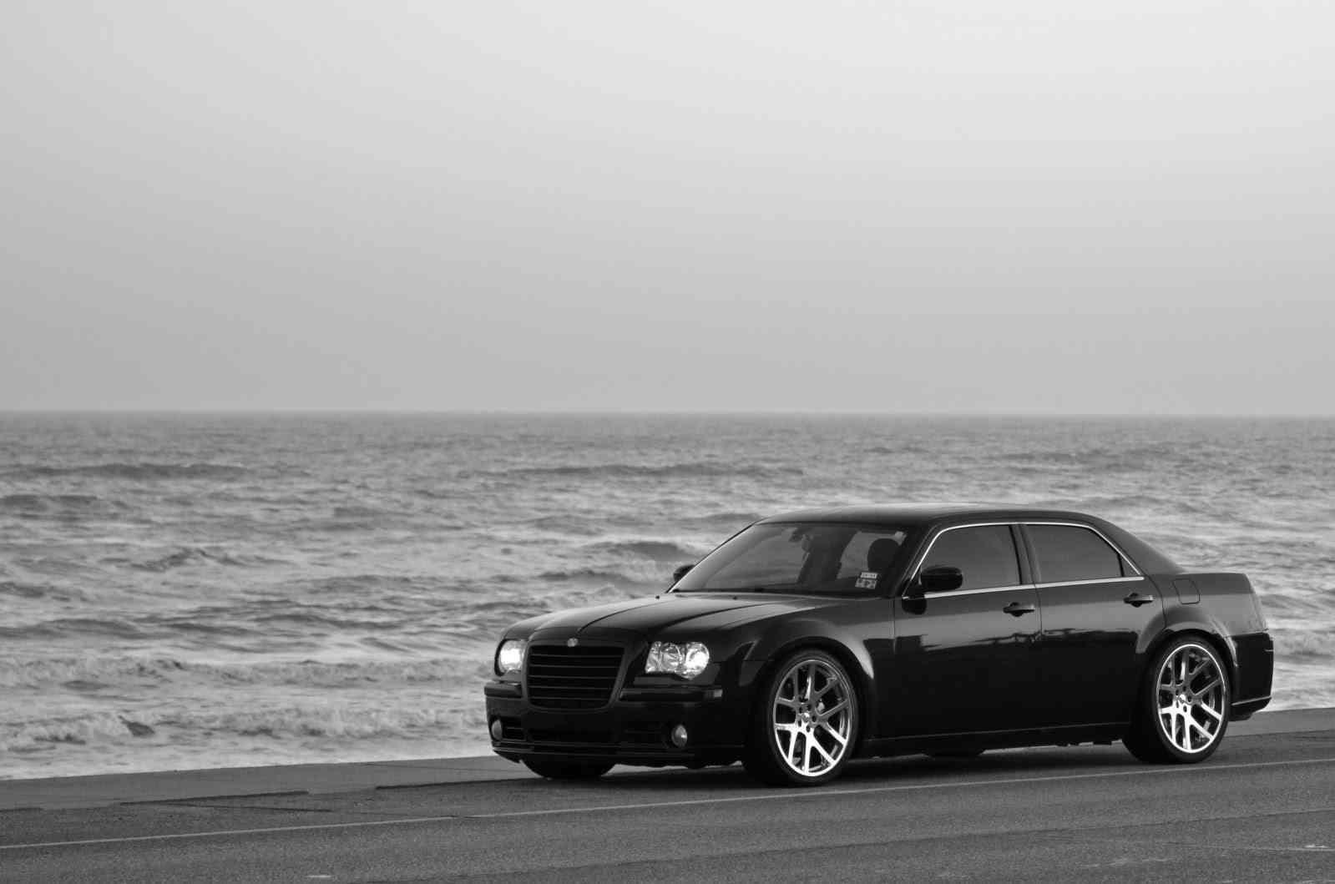car: (481, 498, 1278, 794)
